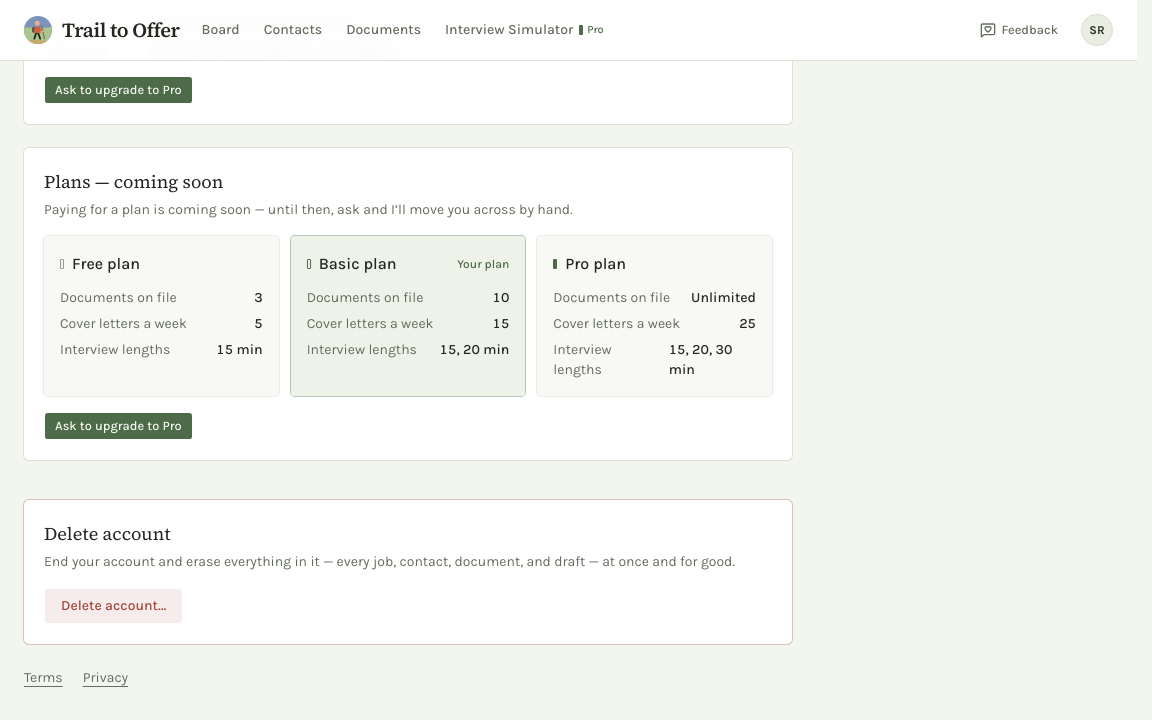
Test: the Delete account dialog (account issue 06) › DLG-3: on basic the Plan line is Your Basic plan ends with your account.
(page scrolled)
Click the button "Delete account…".
click(114, 606)  # box x1=44 y1=588 x2=183 y2=624
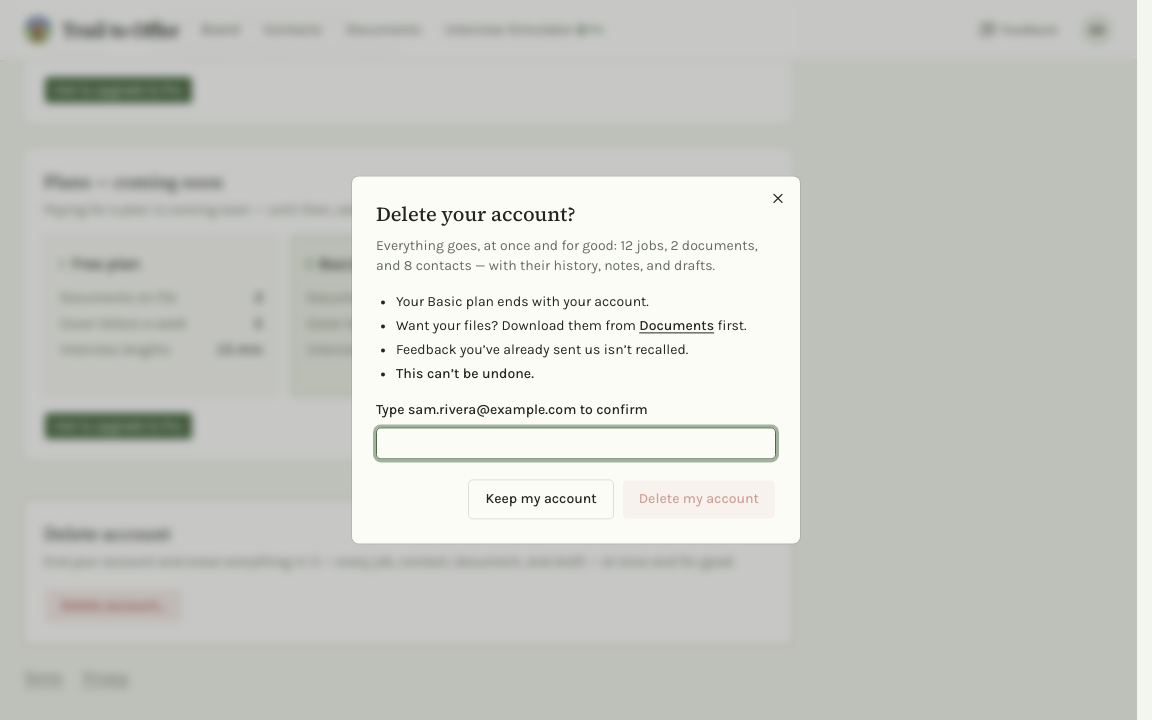
Check: the dialog "Delete your account?" shows "Your Basic plan ends with your account.", box x1=352 y1=176 x2=800 y2=544
